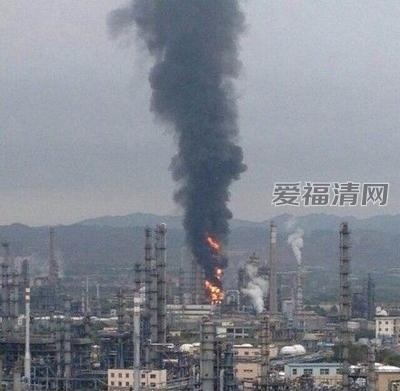fire: (203, 269, 225, 304), (207, 235, 221, 250)
